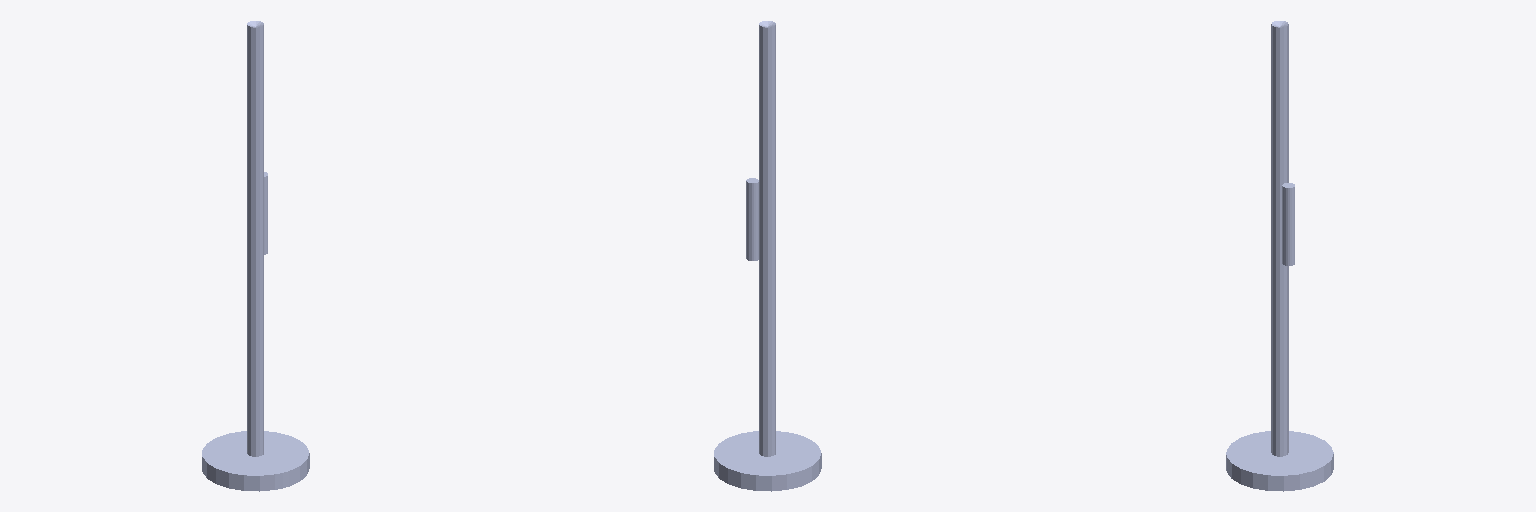
robot.urdf — pole_pinger:
<robot
  name="pole_pinger">
  <link
    name="pole_pinger">
    <inertial>
      <origin
        xyz="0.46114 -0.93656 0.17676"
        rpy="0 0 0" />
      <mass
        value="9.4074" />
      <inertia
        ixx="1.15936884713012"
        ixy="0.000212009082549123"
        ixz="0.00402192283520853"
        iyy="1.15951535199421"
        iyz="-0.00286558981704308"
        izz="0.0426545299368875" />
    </inertial>
    <visual>
      <origin
        xyz="0 0 0"
        rpy="1.5707963267949 0 0" />
      <geometry>
        <mesh
          filename="package://pole_pinger/meshes/pole_pinger.STL" />
      </geometry>
      <material
        name="">
        <color
          rgba="0.79216 0.81961 0.93333 1" />
      </material>
    </visual>
    <collision>
      <origin
        xyz="0 0 0"
        rpy="1.5707963267949 0 0" />
      <geometry>
        <mesh
          filename="package://pole_pinger/meshes/pole_pinger.STL" />
      </geometry>
    </collision>
  </link>
  <gazebo reference="pole_pinger">
    <material>Gazebo/Yellow</material>
    </gazebo>
</robot>

--- What the picture shows (computed from the rendered views, not written in the file) ---
Views: 3 orthographic renders of the robot side by side, from view 1: azimuth 30°, elevation 25°; view 2: azimuth 150°, elevation 25°; view 3: azimuth 270°, elevation 25°.
Robot: pole_pinger — 1 links, 0 joints (none); root link pole_pinger; default pose: every joint at zero.
Links seen in each view (by area): view 1: pole_pinger; view 2: pole_pinger; view 3: pole_pinger.
Link boxes in pixels (x1=…): pole_pinger: x1=202, y1=21, x2=309, y2=491; pole_pinger: x1=714, y1=21, x2=821, y2=491; pole_pinger: x1=1226, y1=21, x2=1333, y2=491.
Bounding box of the posed robot: 0.2493 × 0.25 × 1.14 m (x, y, z).
Meshes: 1 distinct files referenced, 1 mesh visuals loaded (1 binary STL).